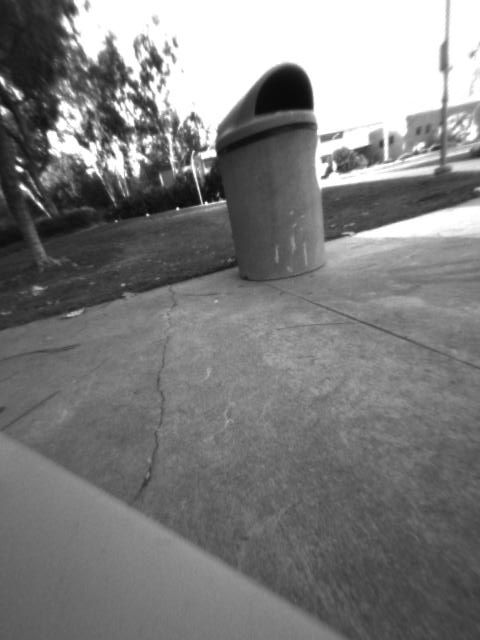trashcan: (210, 57, 339, 282)
